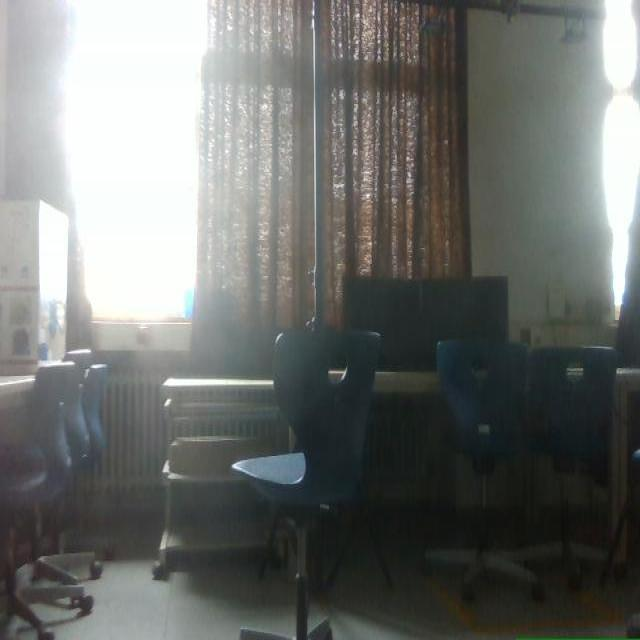objects: (233, 331, 379, 639)
